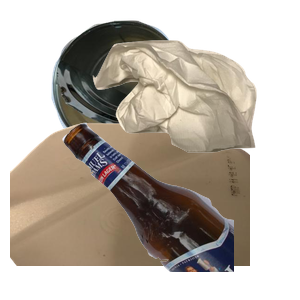glass: (60, 120, 300, 300)
metal: (49, 18, 229, 164)
plastic: (10, 120, 250, 300)
trash: (90, 38, 300, 183)
